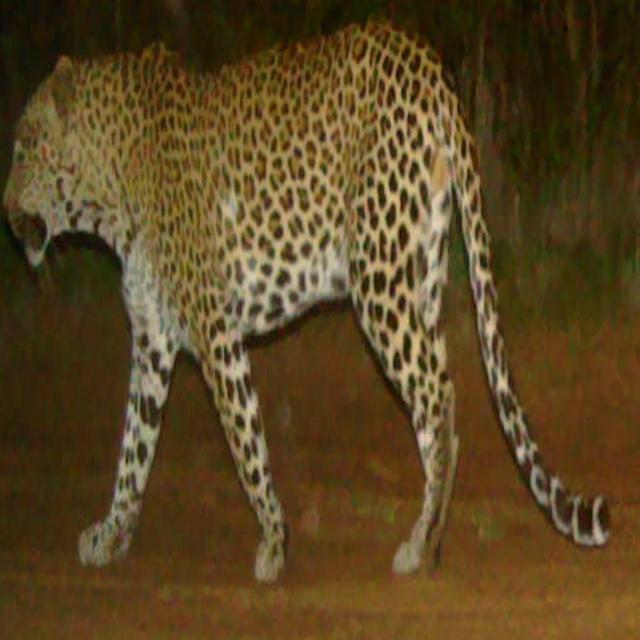Leopard: (18, 24, 621, 604)
